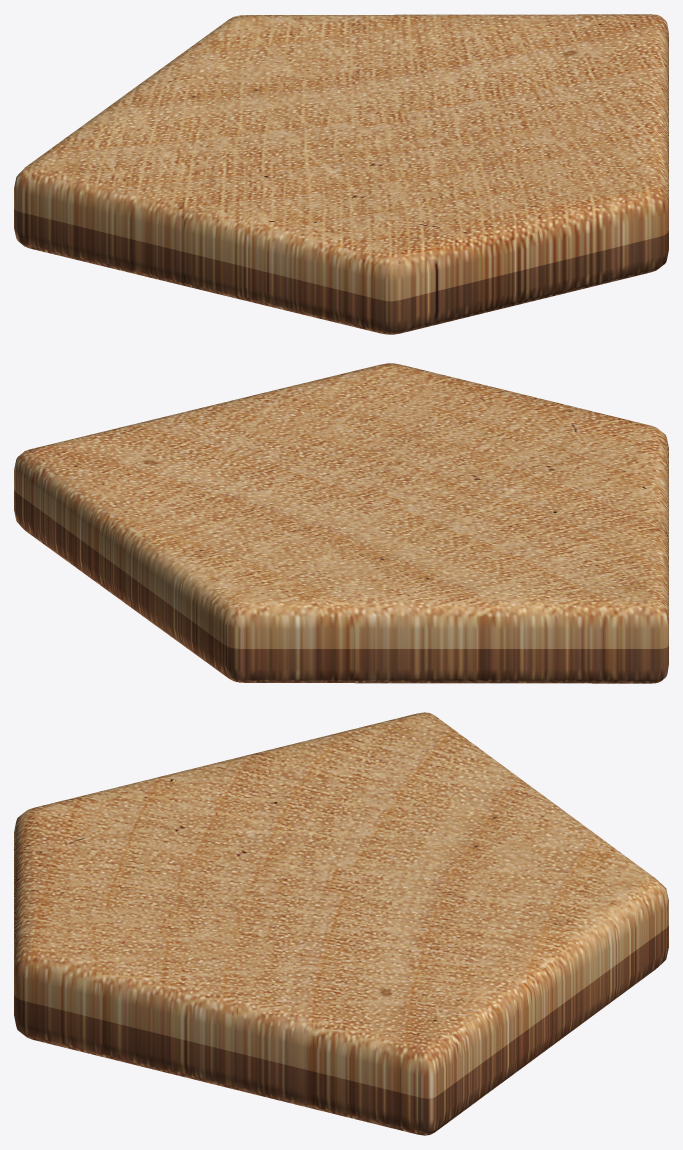
The model's file is PentagonHighPoly.FBX.
3 renders of one model, top to bottom at view 1: azimuth 30°, elevation 25°; view 2: azimuth 150°, elevation 25°; view 3: azimuth 270°, elevation 25°, orthographic. The views are drawn at different scales.
Visible parts, largest first — view 1: PentagonHighPoly; view 2: PentagonHighPoly; view 3: PentagonHighPoly.
Part boxes in pixels (x1,y1,x2,y2): PentagonHighPoly: (14, 14, 668, 334); PentagonHighPoly: (14, 363, 668, 683); PentagonHighPoly: (14, 712, 668, 1135).
Size of the model in its own units: 17.16 by 2 by 13.59.
